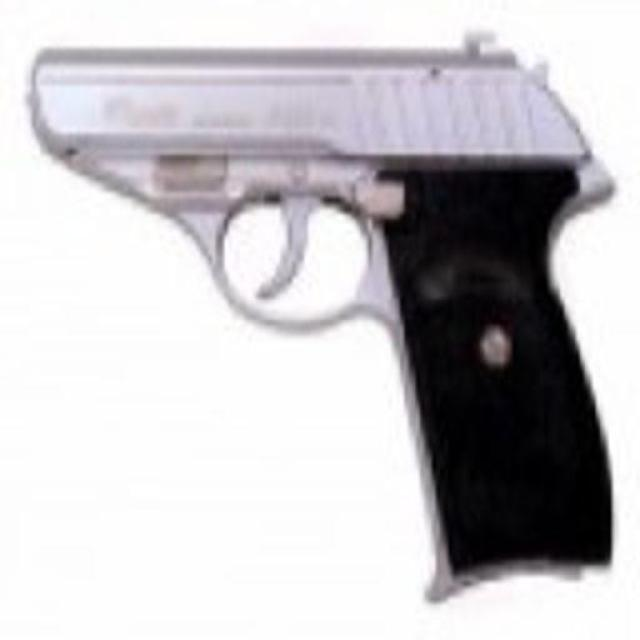pistol: (31, 36, 615, 617)
